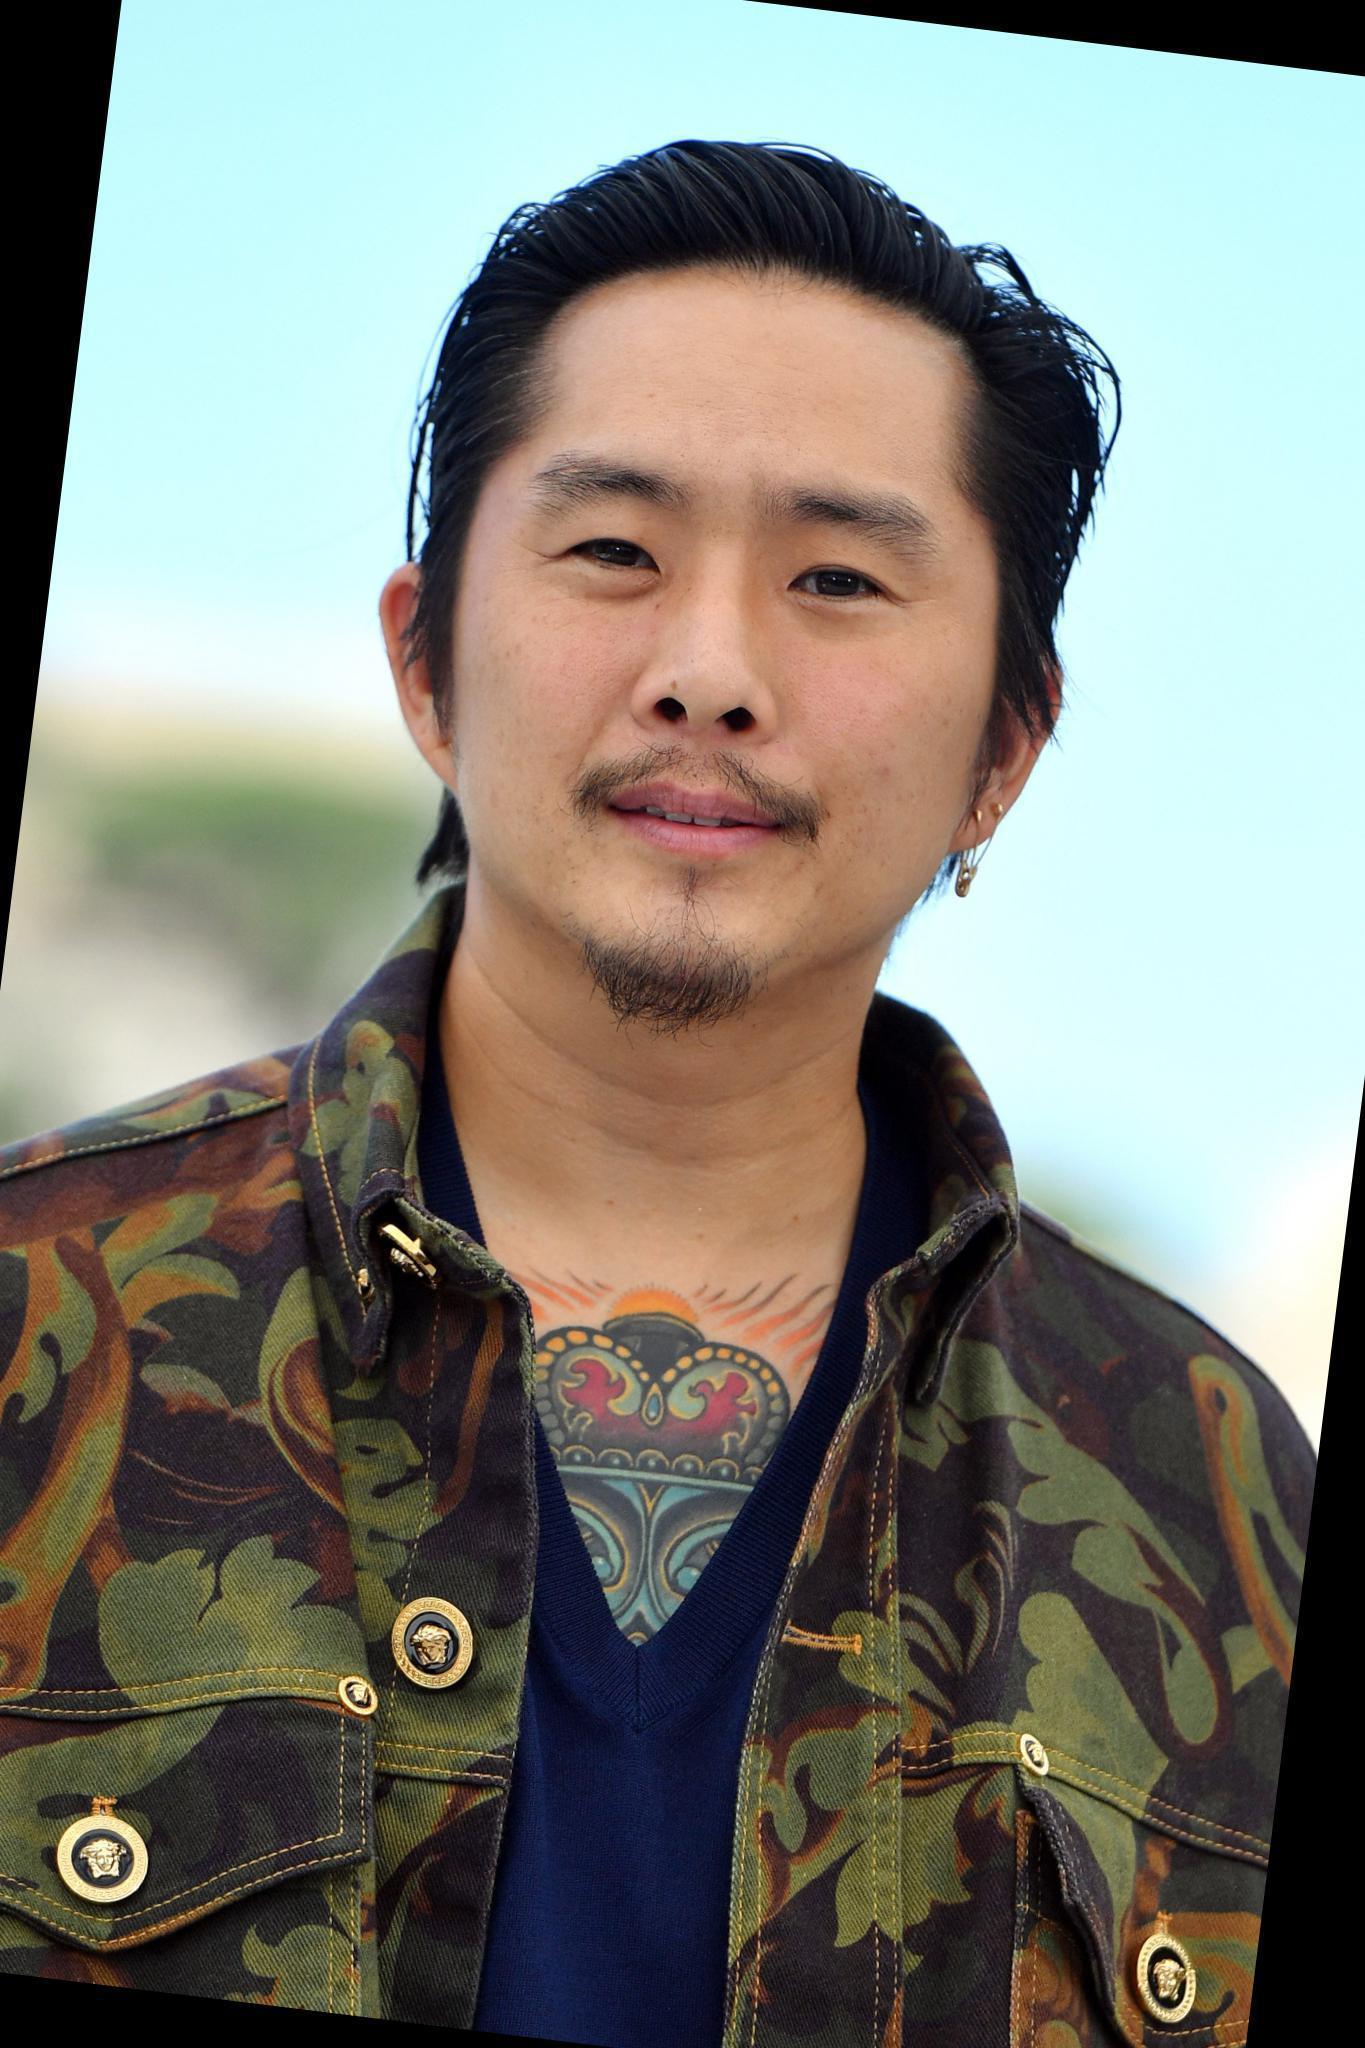Sober: (481, 295, 1010, 973)
